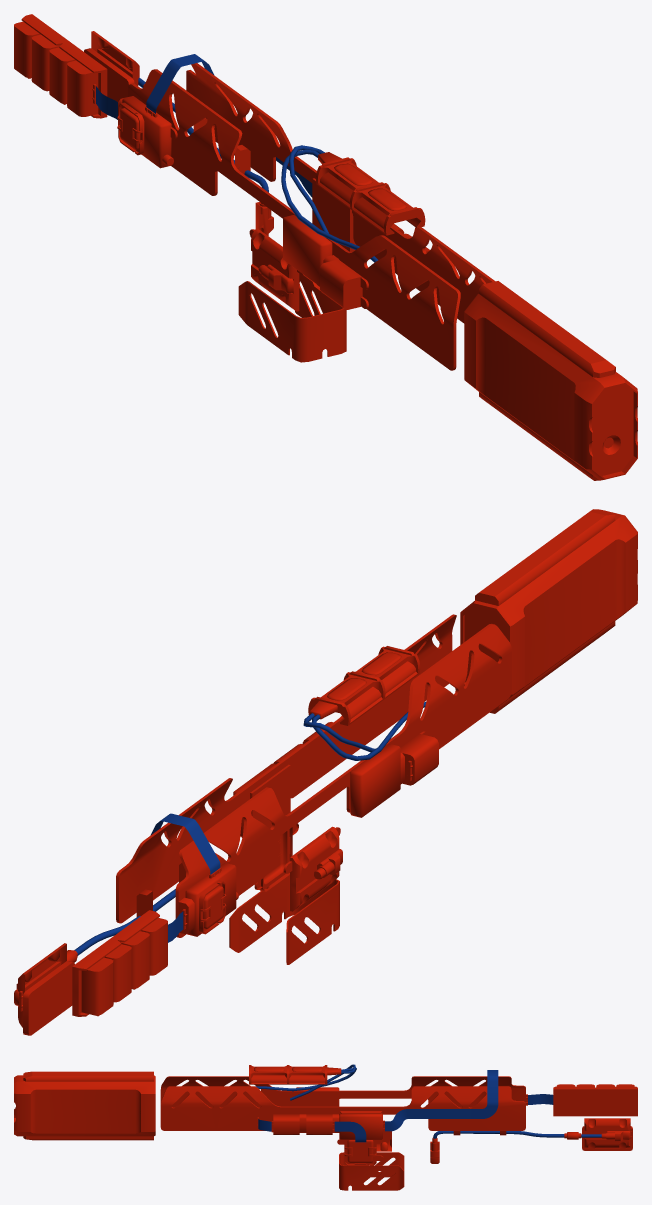
The model's file is WEAPON_UPGRADE_SCARL_RAR3.FBX.
3 views of the same model, one above another, from view 1: azimuth 30°, elevation 25°; view 2: azimuth 150°, elevation 25°; view 3: azimuth 270°, elevation 25° (orthographic). The views are drawn at different scales.
Parts seen in each view (by area): view 1: WEAPON_PRIMARY_AR_SCARL_Provoda; view 2: WEAPON_PRIMARY_AR_SCARL_Provoda; view 3: WEAPON_PRIMARY_AR_SCARL_Provoda.
Part boxes in pixels (x1=…): WEAPON_PRIMARY_AR_SCARL_Provoda: x1=14, y1=14, x2=637, y2=480; WEAPON_PRIMARY_AR_SCARL_Provoda: x1=14, y1=509, x2=637, y2=1035; WEAPON_PRIMARY_AR_SCARL_Provoda: x1=14, y1=1064, x2=637, y2=1190.
Size of the model in its own units: 0.0701 by 0.1373 by 0.6754.
